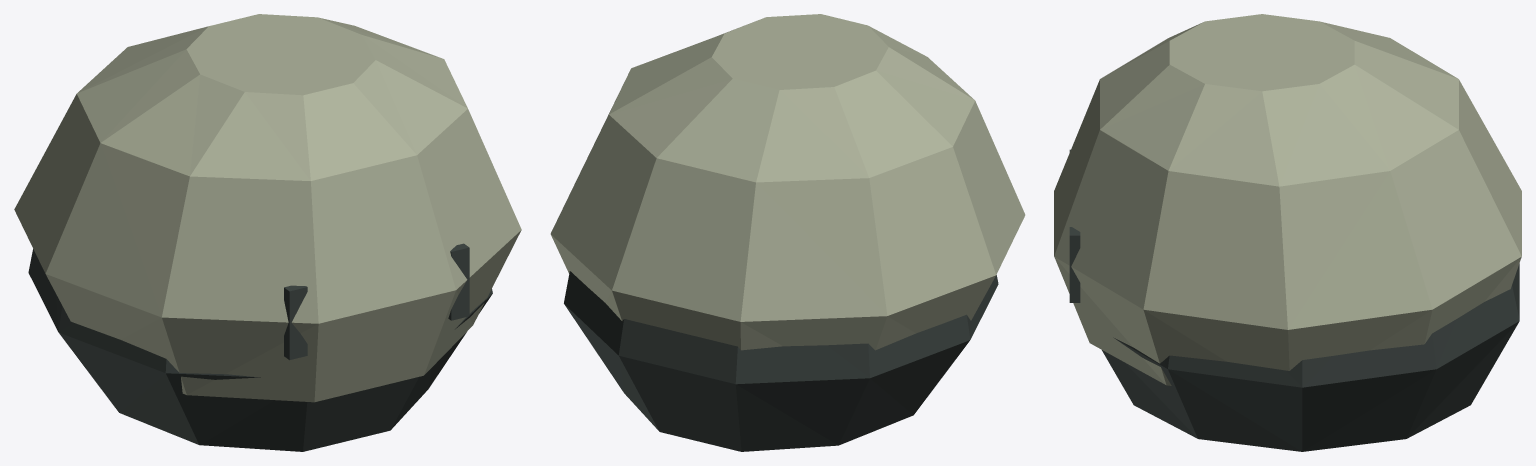
File: pikeman.obj
The picture shows the model from 3 angles, left to right: view 1: azimuth 30°, elevation 25°; view 2: azimuth 150°, elevation 25°; view 3: azimuth 270°, elevation 25°; orthographic projection. The views are drawn at different scales.
Visible parts, largest first — view 1: pikeman; view 2: pikeman; view 3: pikeman.
Boxes of the visible parts, x1,y1,x2,y2 form: pikeman: [14, 14, 521, 451]; pikeman: [550, 14, 1025, 451]; pikeman: [1054, 14, 1521, 451].
Size of the model in its own units: 0.88 by 0.64 by 0.8179.
